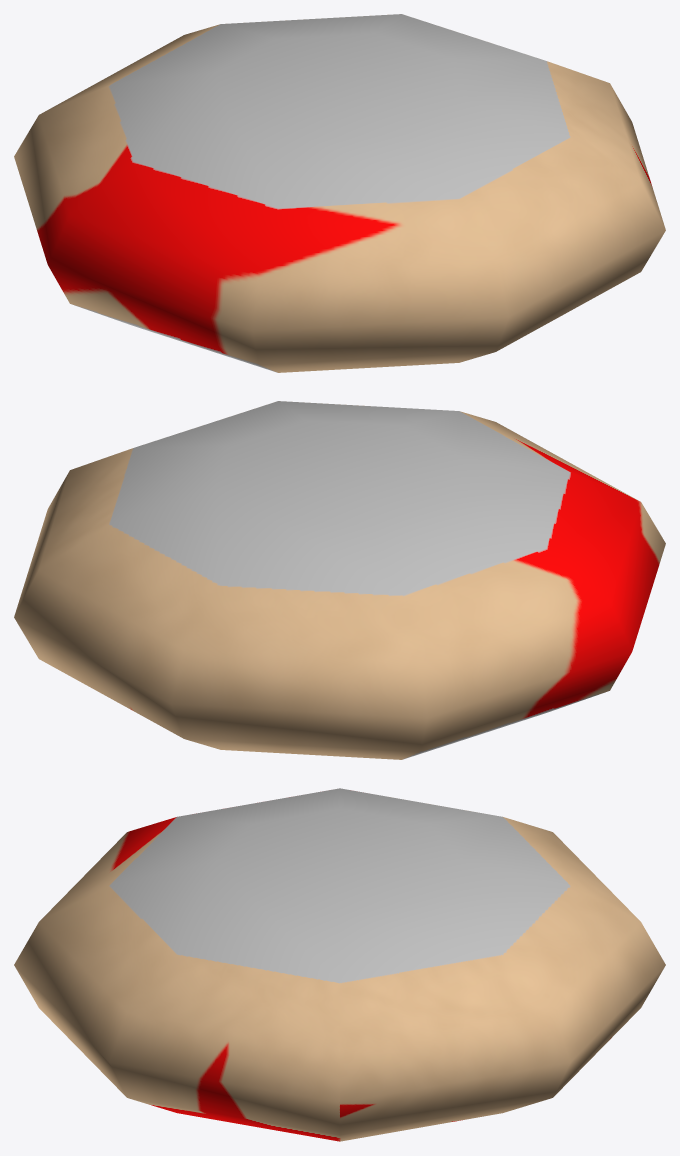
Rendered from cheese_embed.fbx.
3 renders of one model, top to bottom at view 1: azimuth 30°, elevation 25°; view 2: azimuth 150°, elevation 25°; view 3: azimuth 270°, elevation 25°, orthographic. The views are drawn at different scales.
Visible parts, largest first — view 1: cheese; view 2: cheese; view 3: cheese.
Boxes of the visible parts, box(x1,y1,x2,y2) form: cheese: box(14, 14, 665, 372); cheese: box(14, 401, 665, 759); cheese: box(14, 788, 665, 1141).
Size of the model in its own units: 200 by 70.1 by 200.
1 material, 1 textured.
